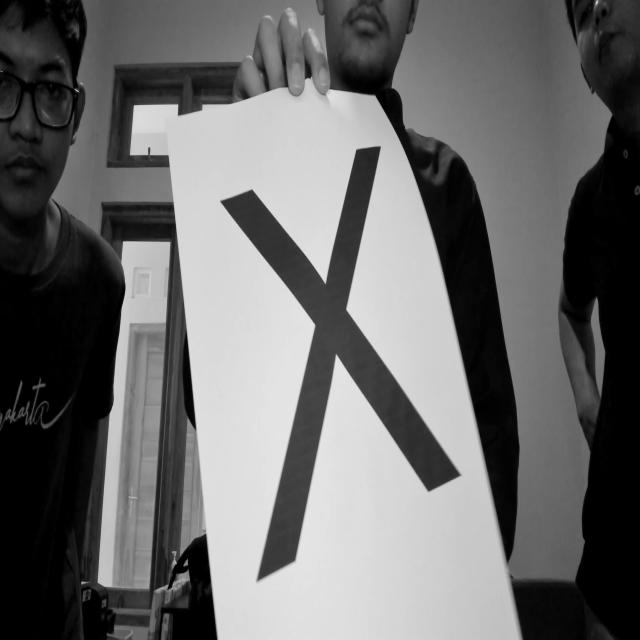x: (208, 123, 474, 613)
